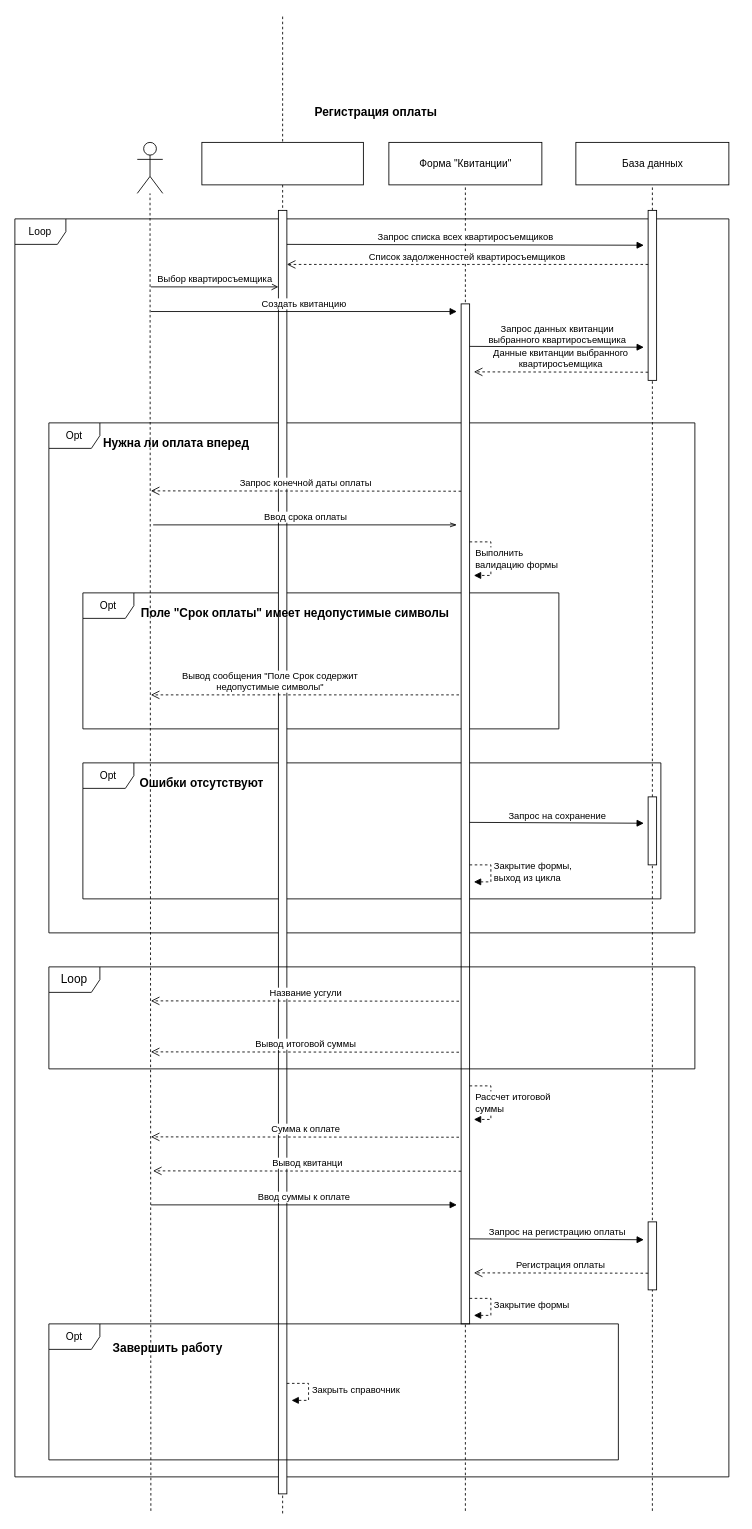
This 752x1529 diagram has some shape labels left out. The shapes that lost their labels are listed below. From the top down, each one's centre as x and y in pixels, then its label:
the point at 149,167: Кассир
the point at 282,163: Справочник "Квартиросъемщики"
